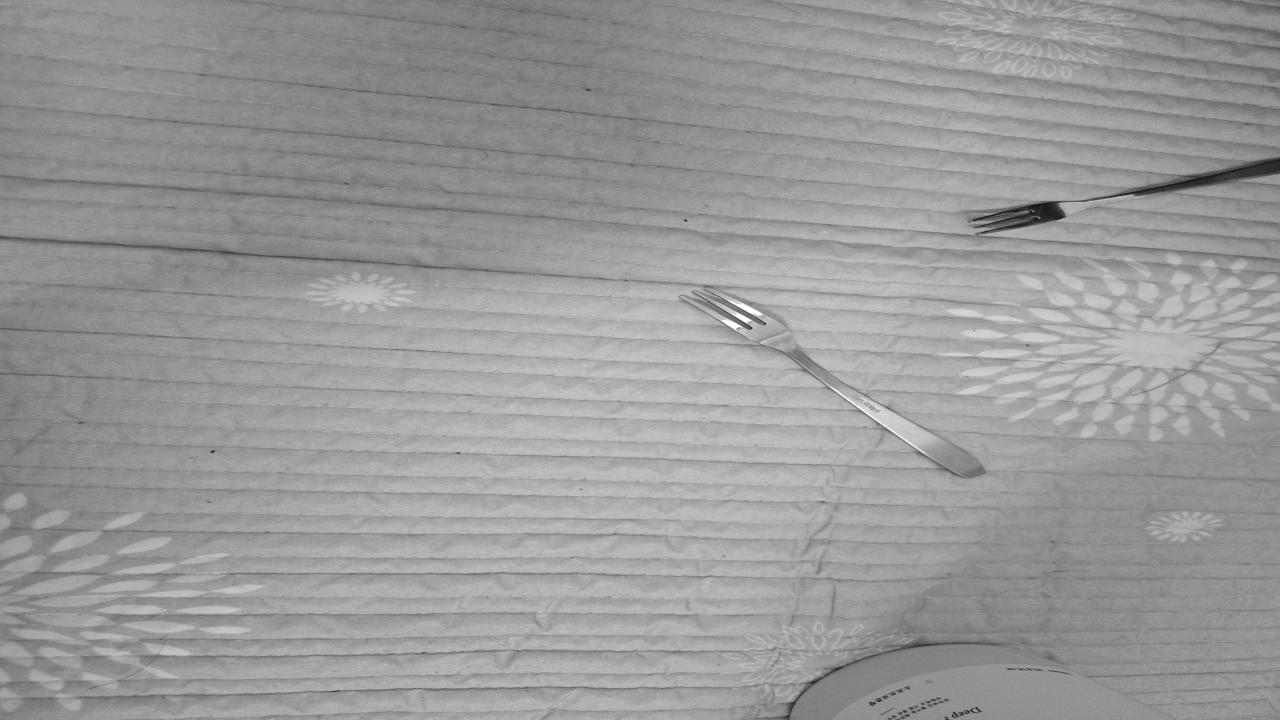fork: (680, 285, 988, 478), (974, 155, 1280, 236)
